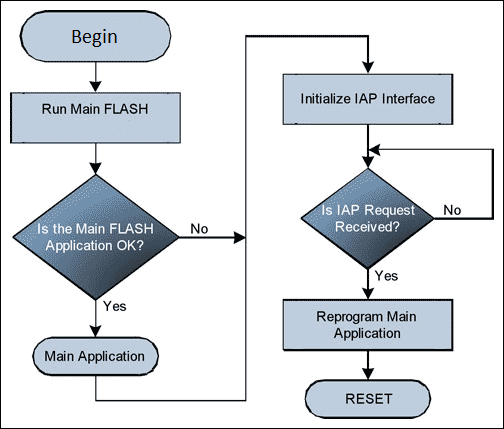arrow: (92, 31, 376, 406), (370, 141, 496, 223), (177, 230, 246, 244), (360, 125, 376, 169), (90, 295, 102, 337), (87, 61, 103, 91), (361, 348, 376, 380), (362, 267, 375, 300), (88, 143, 101, 175)
decision: (11, 174, 180, 300), (300, 167, 435, 271)
process: (280, 296, 457, 354), (280, 71, 457, 128), (8, 90, 183, 147)
terminator: (17, 7, 174, 65), (302, 377, 433, 422), (31, 334, 163, 378)
text: (33, 217, 157, 255), (312, 308, 419, 341), (318, 202, 416, 235), (298, 90, 437, 107), (39, 101, 152, 118), (43, 347, 147, 365), (68, 26, 120, 48), (344, 391, 393, 407), (100, 297, 128, 313), (374, 267, 400, 282), (440, 202, 463, 217), (189, 220, 209, 235)
